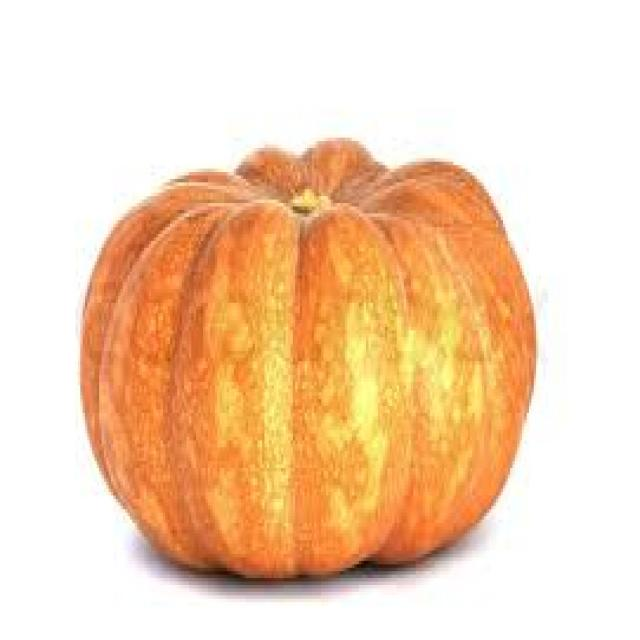organic waste: (78, 134, 534, 578)
